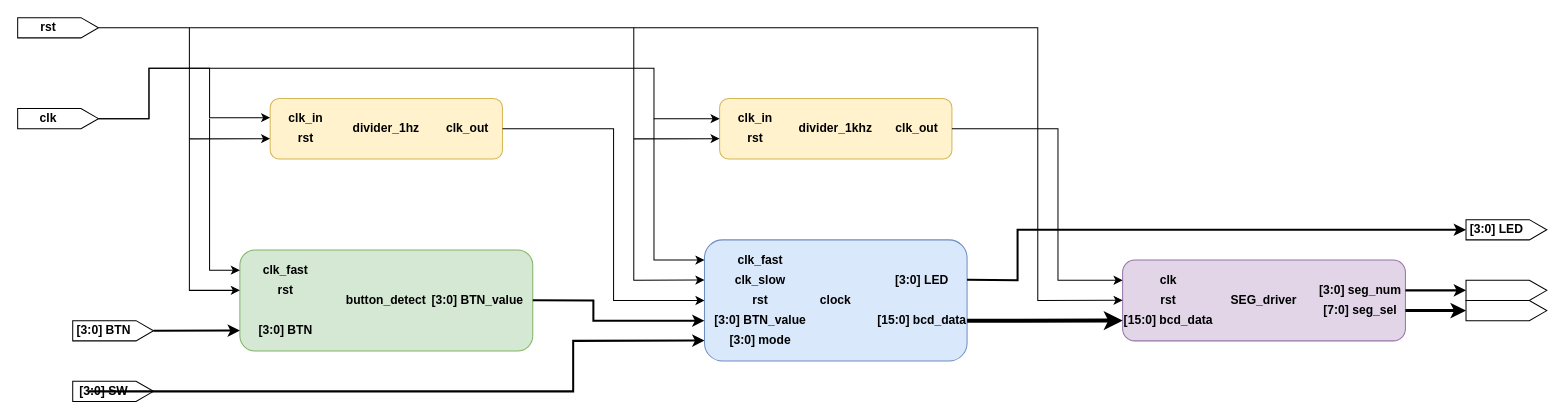
Some shapes in this 1564 by 419 pixel diagram are drawn without their labels. Here are the shapes that lost their labels. From the top down, the centre of each, then its label:
At pixel 1506 289: "[3:0] Sn".
At pixel 1506 310: "[7:0] Cn".
